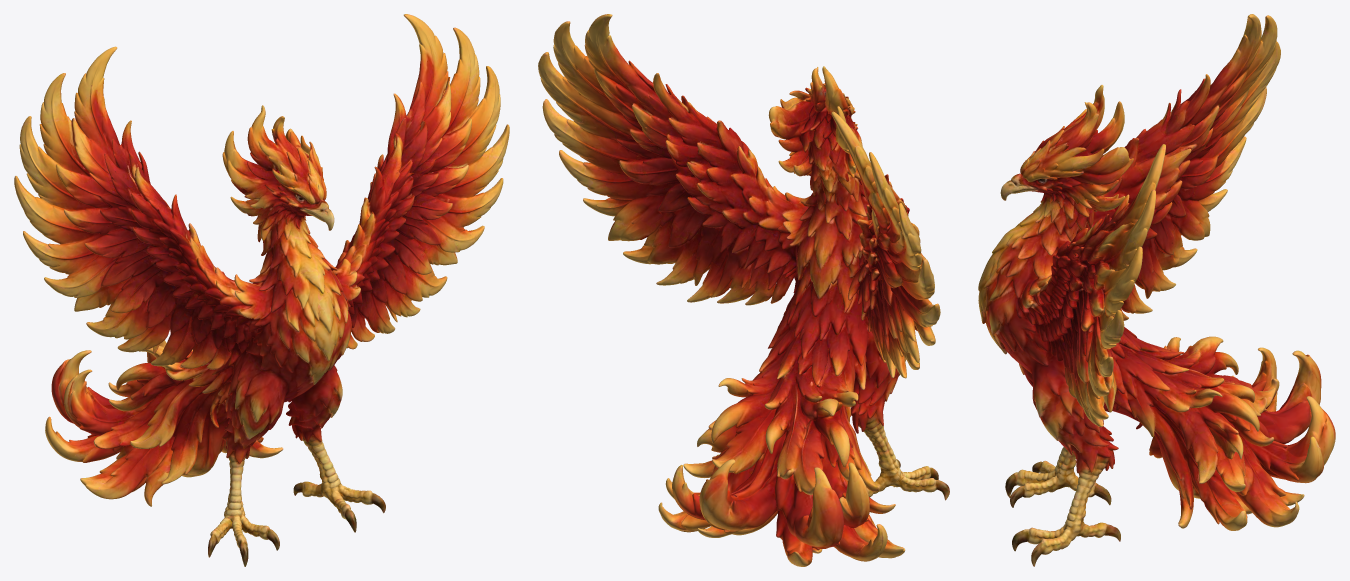
The model's file is grab3d-phoenix.glb.
3 renders of one model, left to right at view 1: azimuth 30°, elevation 25°; view 2: azimuth 150°, elevation 25°; view 3: azimuth 270°, elevation 25°, orthographic. The views are drawn at different scales.
Visible parts, largest first — view 1: phoenix; view 2: phoenix; view 3: phoenix.
Part boxes in pixels (<box>): phoenix: <box>14,14,509,566</box>; phoenix: <box>538,14,949,566</box>; phoenix: <box>978,14,1335,566</box>.
Size of the model in its own units: 2.5 by 2.47 by 1.69.
Materials: 1 (1 with a texture image).
